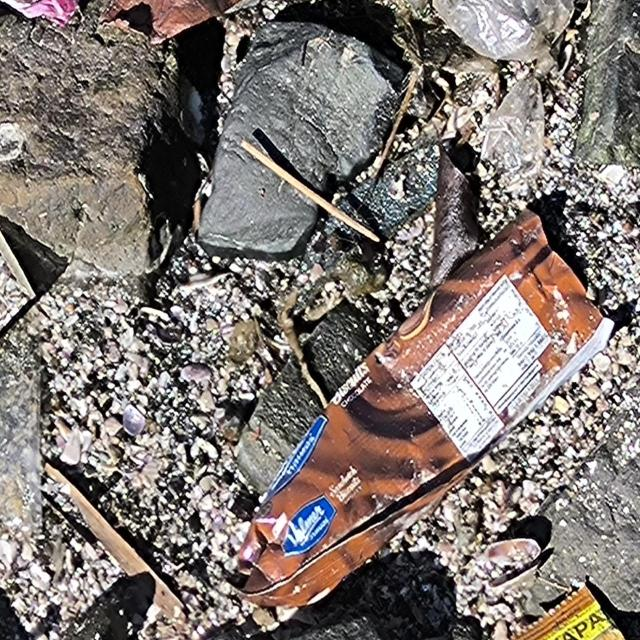plastic_waste: (220, 206, 618, 610)
